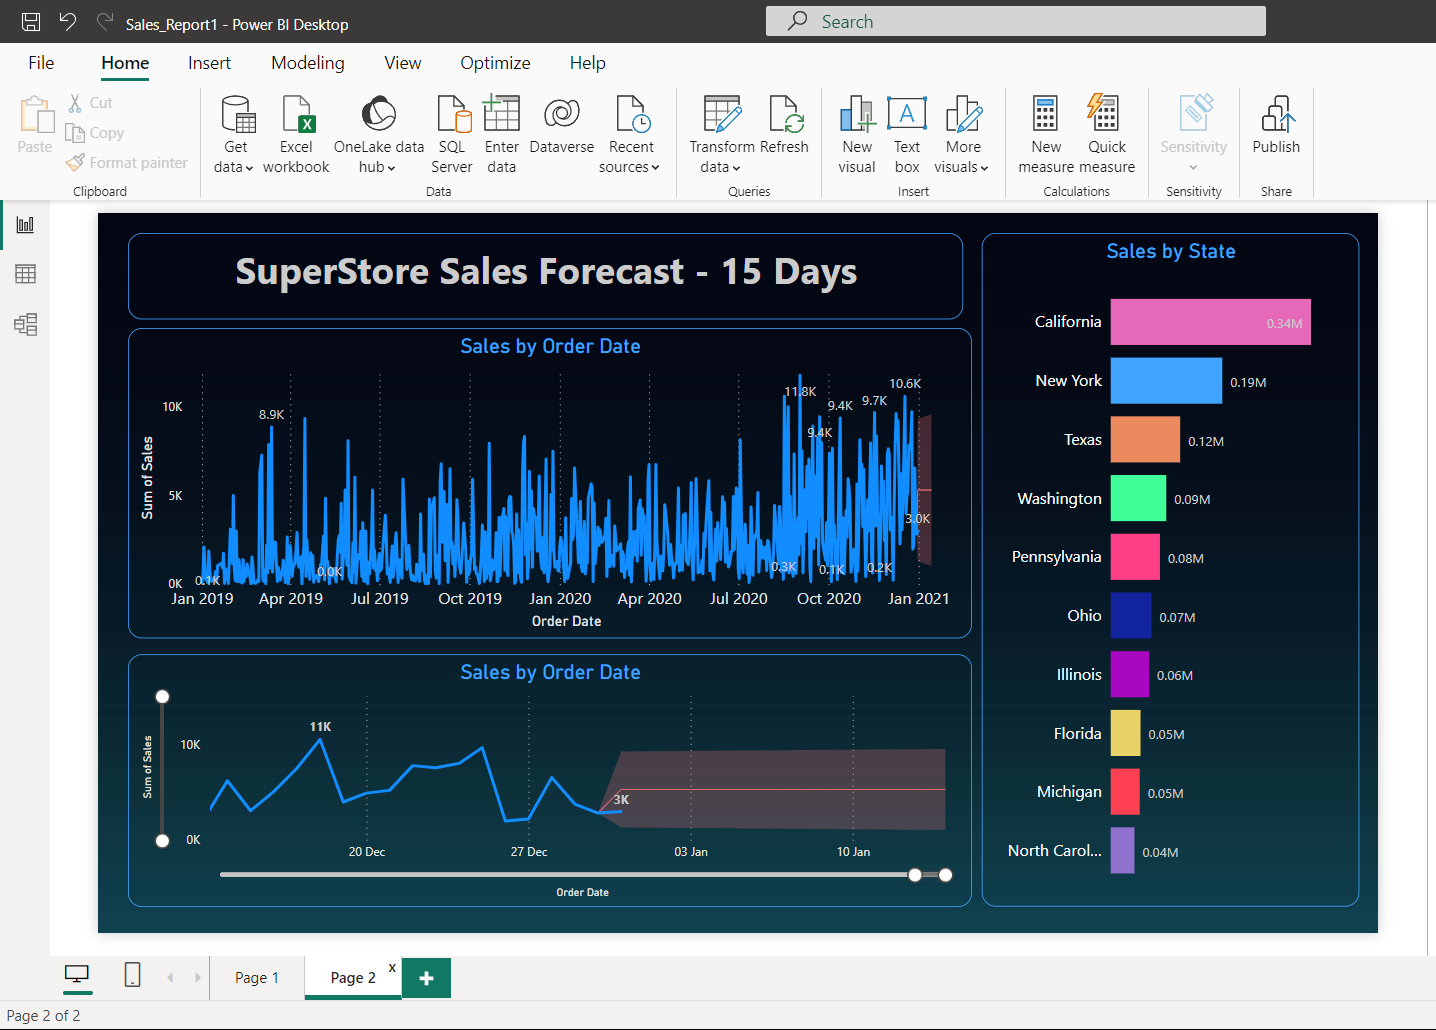

The page's visual inventory and layout, read from the dashboard file:
{"tool":"powerbi","page":{"name":"Page 2","canvas":[1280,720],"ordinal":1},"visuals":[{"type":"lineChart","title":"Sales by Order Date","fields":{"Y":["Sum(SuperStore_Sales_Dataset.Sales)"],"Category":["SuperStore_Sales_Dataset.Order Date"]},"box":[30,115,843.8,310],"z":0},{"type":"lineChart","title":"Sales by Order Date","fields":{"Y":["Sum(SuperStore_Sales_Dataset.Sales)"],"Category":["SuperStore_Sales_Dataset.Order Date"]},"box":[30,441.2,843.8,252.5],"z":1000},{"type":"barChart","title":"Sales by State","fields":{"Y":["Sum(SuperStore_Sales_Dataset.Sales)"],"Category":["SuperStore_Sales_Dataset.State"]},"box":[883.8,20,377.5,673.8],"z":2000},{"type":"textbox","box":[30,20,835,86.2],"z":3000}]}

Visuals, with their boxes on the page's 1280x720 design canvas (x1, y1, x2, y2). These are canvas units, not pixel positions in the 1436x1030 screenshot, which may show the page scaled, cropped or inside an application window:
"Sales by Order Date" lineChart: (x1=30, y1=115, x2=874, y2=425)
"Sales by Order Date" lineChart: (x1=30, y1=441, x2=874, y2=694)
"Sales by State" barChart: (x1=884, y1=20, x2=1261, y2=694)
textbox: (x1=30, y1=20, x2=865, y2=106)
